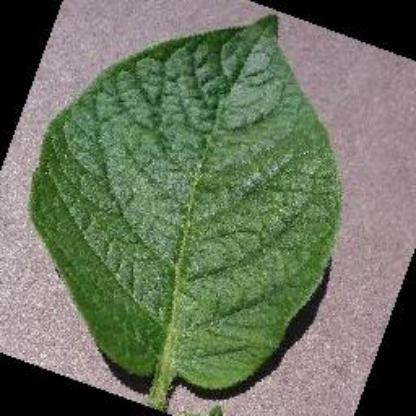Healthy-plant: (58, 12, 393, 400)
